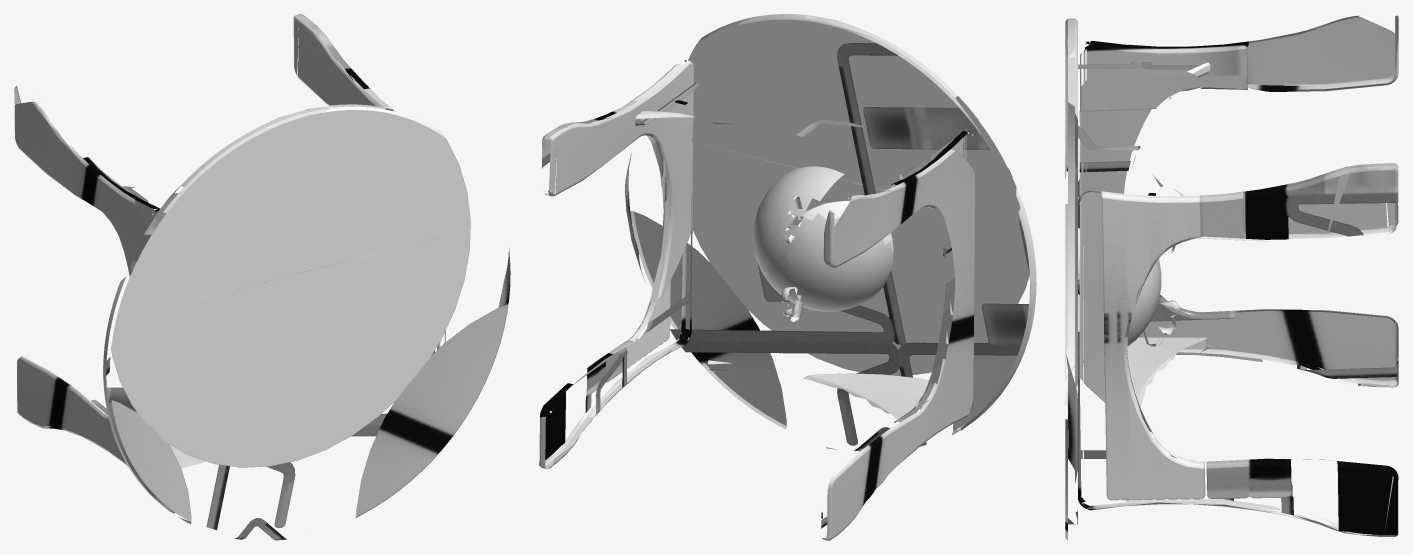
The picture shows the model from 3 angles, left to right: view 1: azimuth 30°, elevation 25°; view 2: azimuth 150°, elevation 25°; view 3: azimuth 270°, elevation 25°; orthographic projection. The views are drawn at different scales.
Size of the model in its own units: 0.65 by 0.65 by 0.4143.
